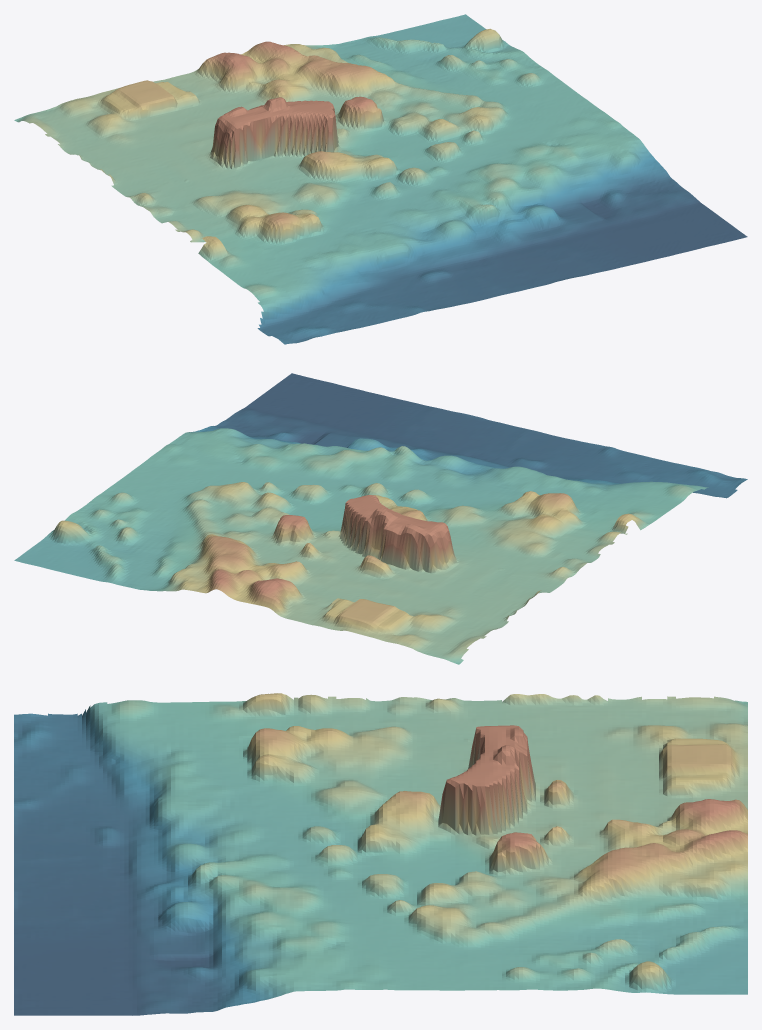
File: oma084_disp_pseudogt.glb
3 views of the same model, one above another, from view 1: azimuth 30°, elevation 25°; view 2: azimuth 150°, elevation 25°; view 3: azimuth 270°, elevation 25° (orthographic). The views are drawn at different scales.
Parts seen in each view (by area): view 1: world; view 2: world; view 3: world.
Boxes of the visible parts, left/top/right/bottom form: world: left=14, top=14, right=747, bottom=344; world: left=14, top=373, right=747, bottom=664; world: left=14, top=693, right=747, bottom=1015.
Size of the model in its own units: 330 by 46.8 by 346.
